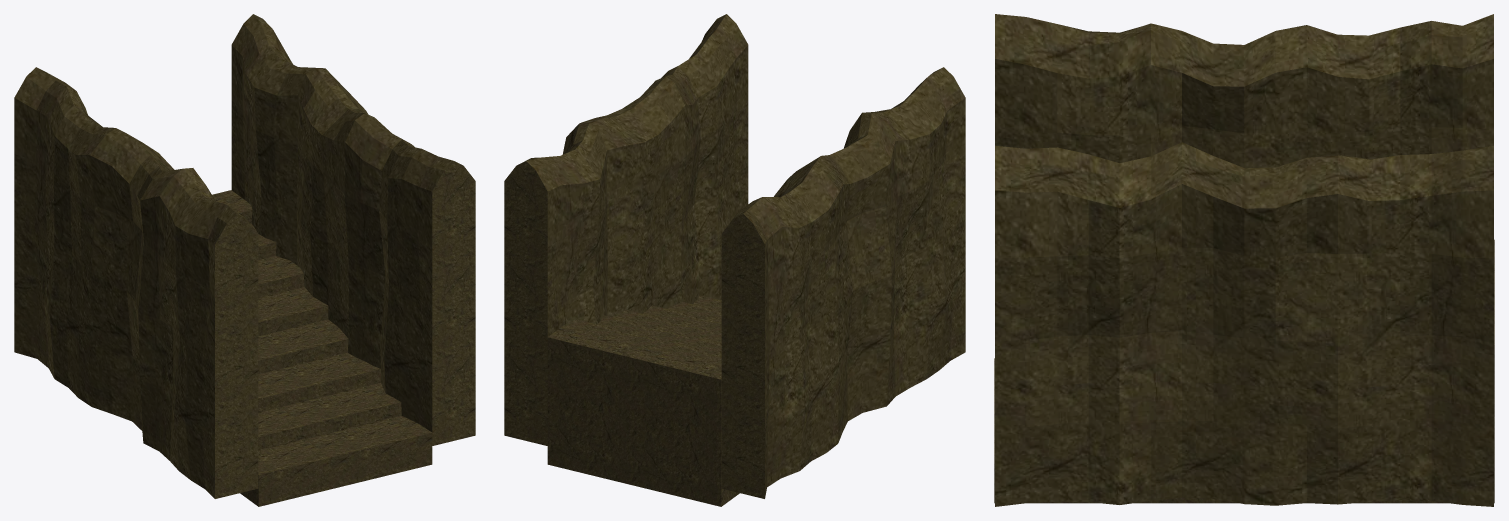
File: cave_stairs_01_limestone.glb
The picture shows the model from 3 angles, left to right: view 1: azimuth 30°, elevation 25°; view 2: azimuth 150°, elevation 25°; view 3: azimuth 270°, elevation 25°; orthographic projection. The views are drawn at different scales.
Visible parts, largest first — view 1: cave_stairs_01_limestone; view 2: cave_stairs_01_limestone; view 3: cave_stairs_01_limestone.
Boxes of the visible parts, x1,y1,x2,y2 form: cave_stairs_01_limestone: [14, 14, 475, 506]; cave_stairs_01_limestone: [504, 14, 965, 506]; cave_stairs_01_limestone: [994, 14, 1494, 506].
Size of the model in its own units: 3.09 by 3.28 by 4.01.
2 materials, 2 textured.
